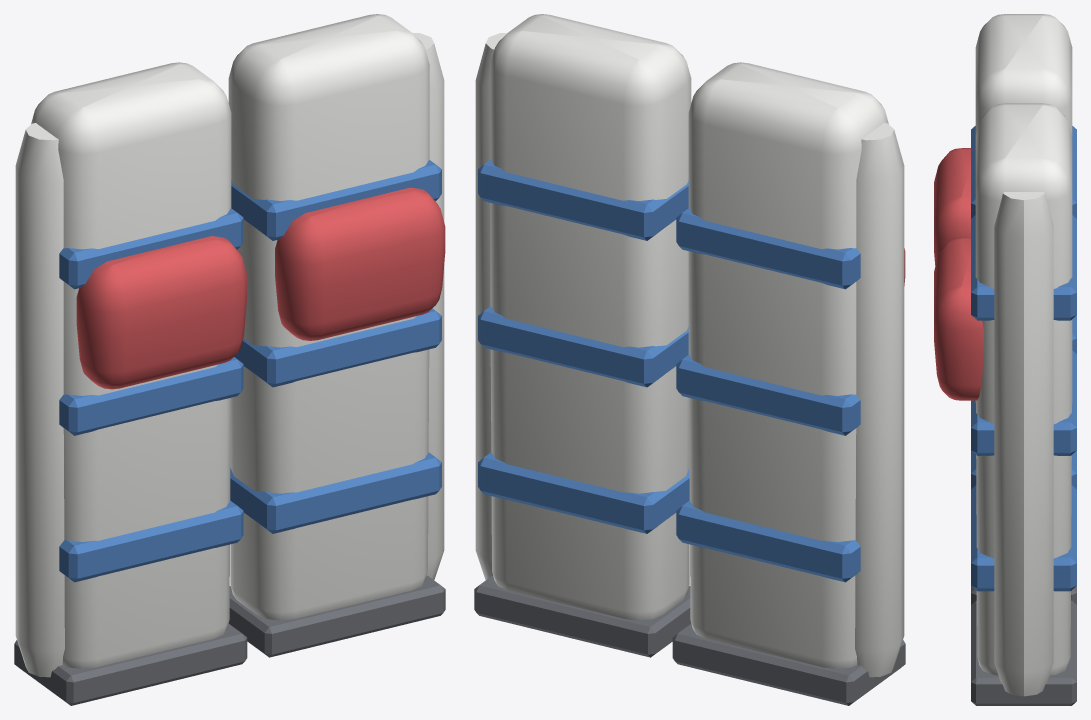
Rendered from ice-hockey-arena-and-locker-room-goalie-pads-c713e1bd__33719.glb.
3 renders of one model, left to right at view 1: azimuth 30°, elevation 25°; view 2: azimuth 150°, elevation 25°; view 3: azimuth 270°, elevation 25°, orthographic. The views are drawn at different scales.
Visible parts, largest first — view 1: goalie-pads; view 2: goalie-pads; view 3: goalie-pads.
Part boxes in pixels (box(x1,y1,x2,y2)): goalie-pads: box(14, 14, 445, 705); goalie-pads: box(474, 14, 905, 705); goalie-pads: box(934, 14, 1076, 705).
Size of the model in its own units: 0.72 by 0.95 by 0.2295.
